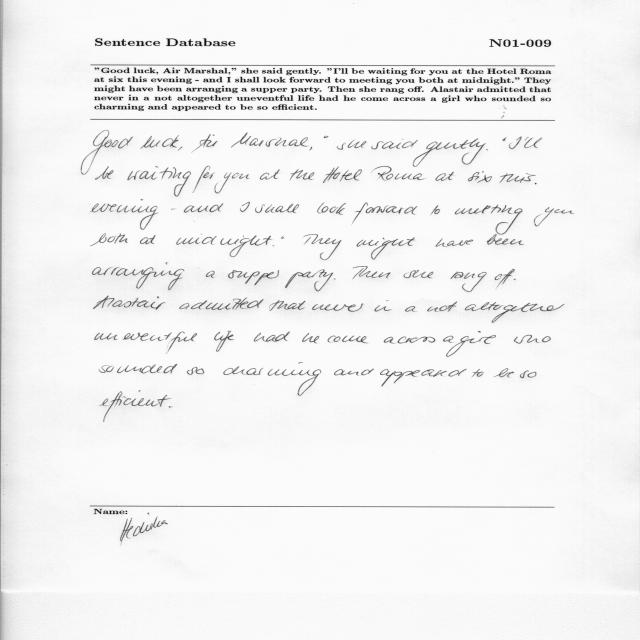word: (223, 362, 321, 396), (93, 263, 185, 290), (176, 234, 272, 257), (100, 391, 171, 422), (413, 138, 486, 167), (91, 199, 158, 230), (455, 205, 523, 235), (95, 332, 197, 352), (465, 302, 565, 322), (127, 166, 191, 197), (81, 130, 119, 171), (380, 369, 467, 386), (352, 202, 417, 224), (446, 331, 496, 357), (357, 238, 415, 260), (231, 133, 308, 148), (285, 270, 333, 292), (179, 298, 264, 310), (304, 234, 342, 260), (93, 296, 166, 309), (534, 207, 574, 227), (374, 166, 426, 181), (99, 364, 177, 374), (228, 270, 279, 285), (451, 272, 487, 292), (215, 173, 249, 194), (323, 166, 362, 183), (192, 166, 215, 193), (140, 135, 179, 149), (353, 266, 391, 279), (371, 139, 418, 149), (312, 303, 364, 312), (193, 134, 218, 152), (82, 166, 114, 180), (91, 234, 128, 246), (214, 331, 234, 352), (499, 173, 537, 184), (487, 234, 524, 245), (255, 204, 299, 213), (270, 300, 306, 311), (184, 203, 223, 213), (317, 202, 346, 215), (384, 337, 436, 344), (495, 269, 515, 287), (254, 332, 290, 342), (436, 238, 473, 247), (514, 335, 551, 344), (427, 301, 457, 312), (328, 336, 368, 344), (337, 140, 366, 150), (468, 171, 492, 183), (334, 369, 374, 376), (290, 169, 315, 180), (404, 270, 434, 278), (260, 169, 280, 180), (493, 368, 514, 378), (524, 137, 542, 148), (375, 301, 392, 312), (118, 137, 133, 149), (435, 172, 454, 181), (302, 333, 319, 343), (509, 136, 522, 149), (187, 367, 204, 375), (520, 371, 537, 379), (140, 235, 155, 244), (240, 202, 250, 212), (472, 369, 484, 377), (431, 205, 440, 215), (443, 336, 453, 343), (206, 271, 215, 278), (405, 306, 415, 312), (178, 147, 182, 151), (310, 147, 313, 151), (503, 138, 507, 141), (324, 136, 329, 138), (281, 236, 284, 239), (169, 406, 172, 408), (171, 209, 175, 210), (486, 149, 488, 150), (273, 246, 275, 247), (334, 279, 336, 280), (514, 279, 516, 280)
